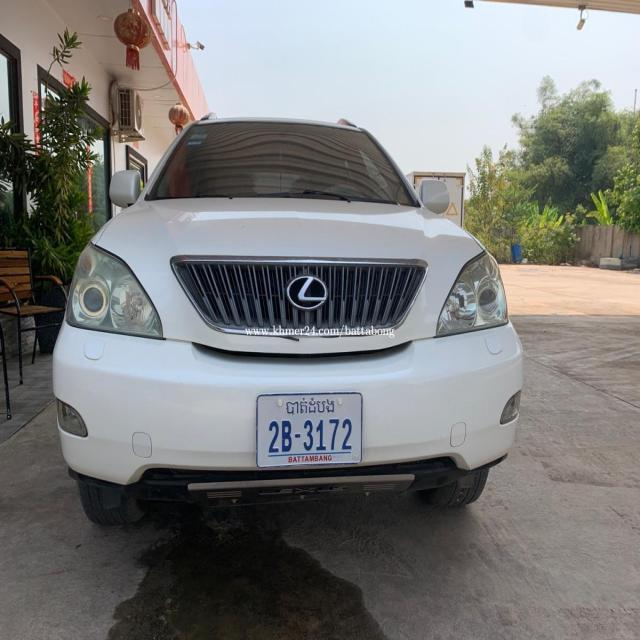Battambang: (284, 396, 335, 416)
